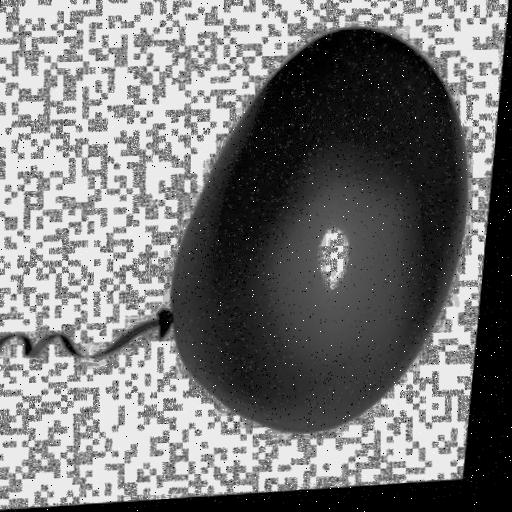balloon: (141, 5, 493, 456)
